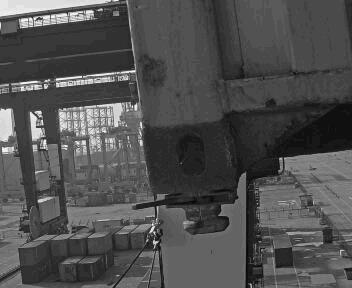twist_lock_1: (136, 190, 231, 245)
